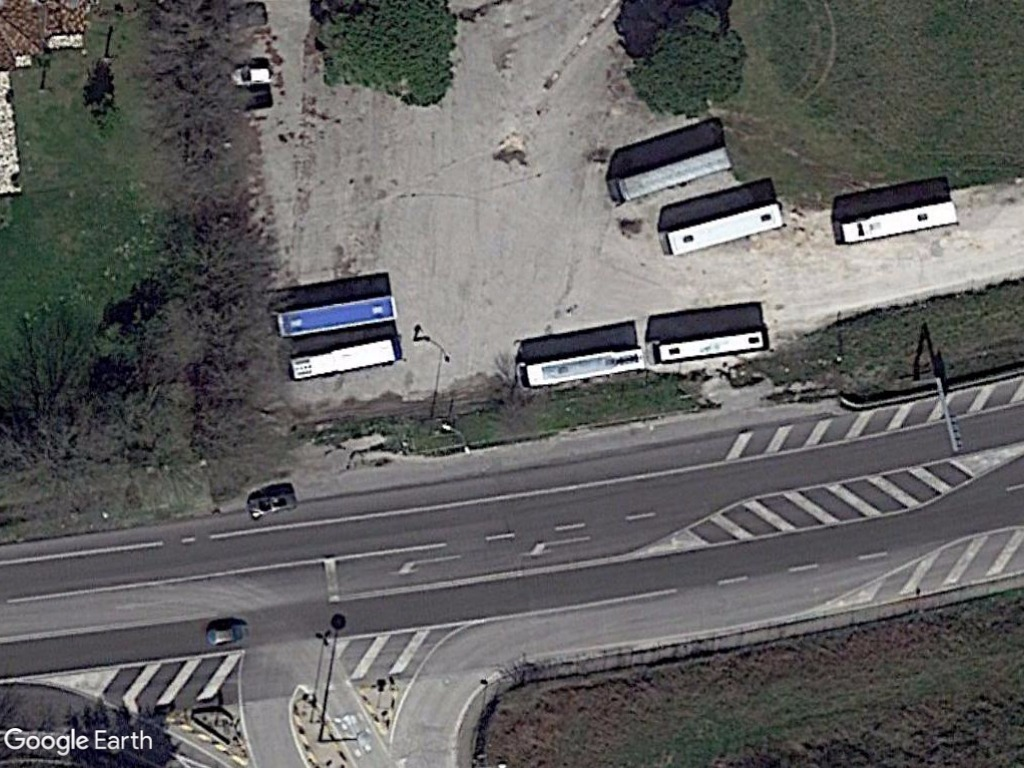bus: (603, 139, 739, 209), (656, 197, 792, 258), (513, 335, 648, 394), (649, 322, 774, 380), (830, 196, 966, 249), (268, 289, 403, 340), (285, 333, 407, 383)
car: (239, 488, 299, 524), (200, 619, 255, 649), (226, 63, 277, 89)
